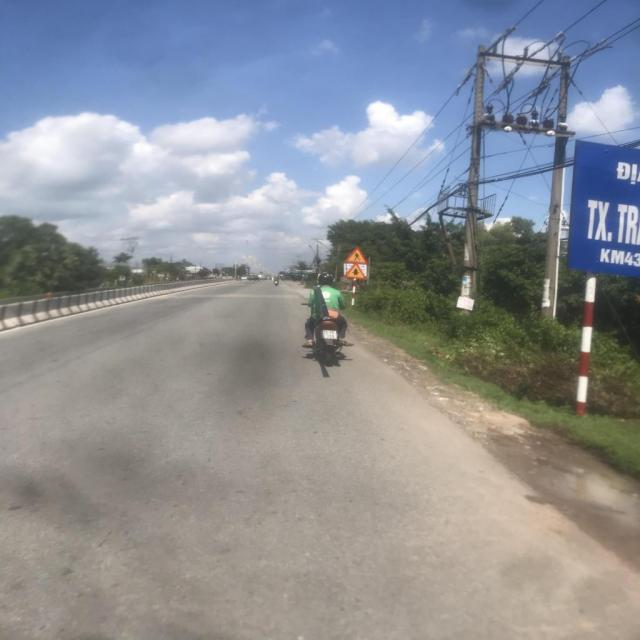cam_xe_di_nguoc_chieu: (244, 265, 248, 268)
chu_y_nguoi_di_bo_cat_ngang: (344, 247, 369, 265)
giao_nhau_voi_duong_khong_uu_tien: (343, 262, 367, 280)
huong_phai_di_vuot_chuong_ngai_vat_phai: (245, 268, 249, 270)
